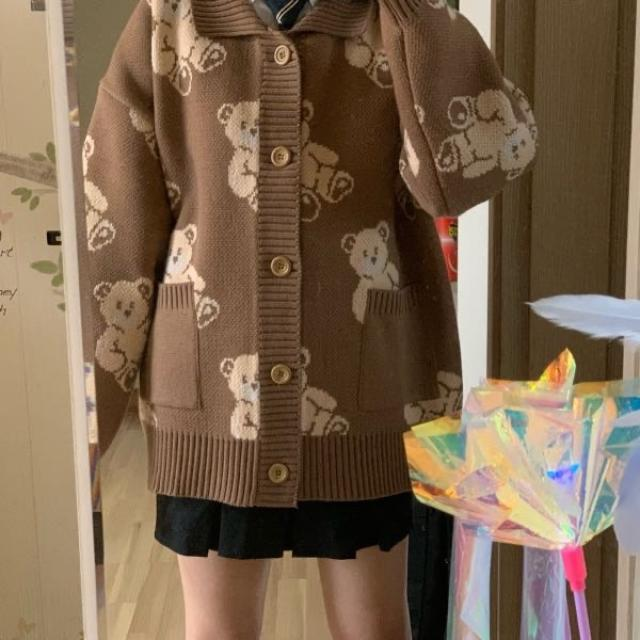cardigan: (87, 2, 540, 505)
skirt: (148, 489, 420, 555)
